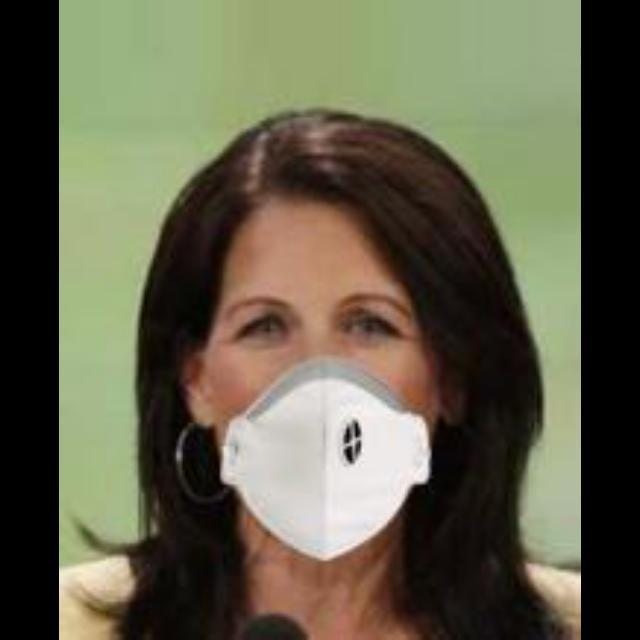suspicion: (131, 122, 495, 534)
